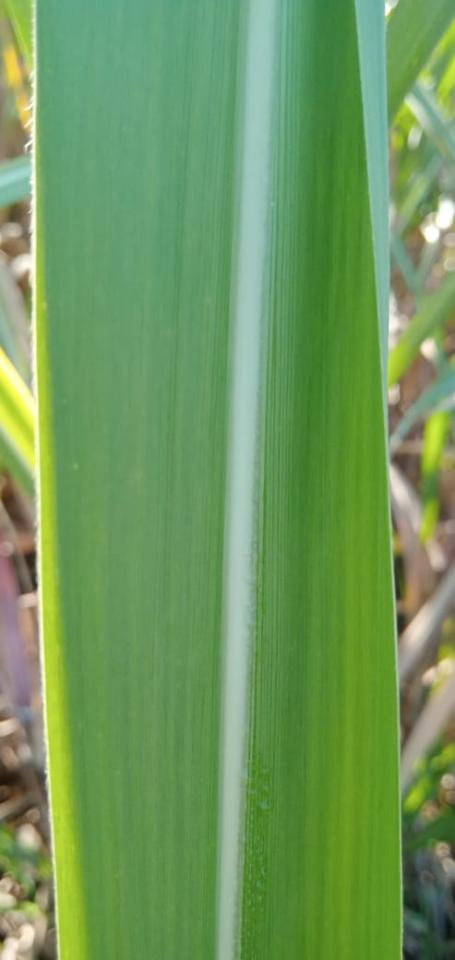Healthy: (34, 0, 401, 959), (354, 0, 389, 420)
